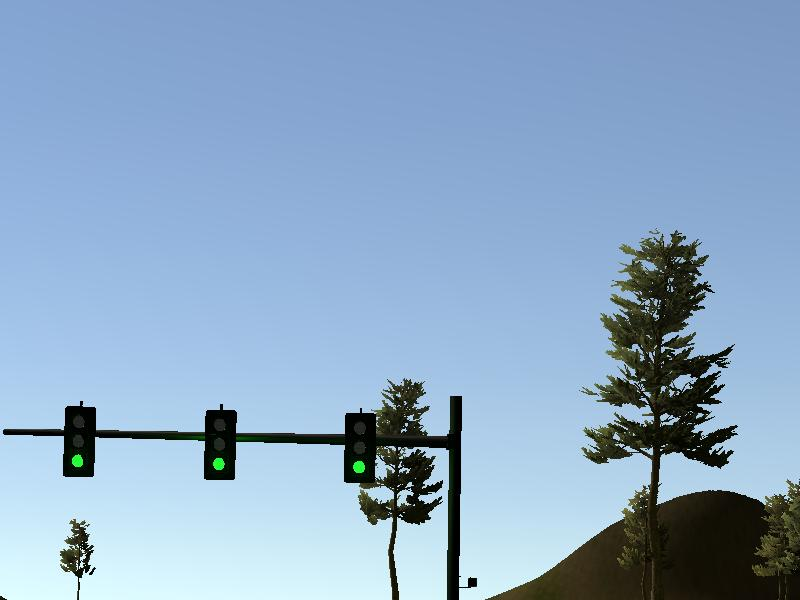green: (63, 403, 97, 478), (203, 408, 237, 483), (344, 411, 378, 486)
